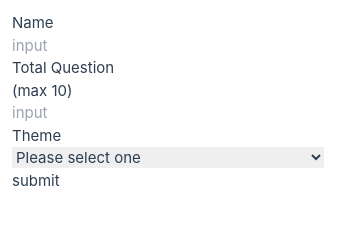
Test: child quiz form input › field theme empty
Type "ujank" into the field with id "name" at [132, 46], box [12,34,252,57]
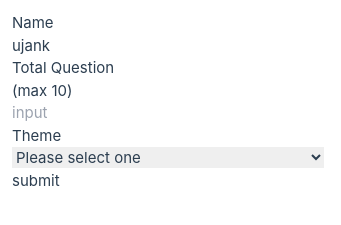
Select "Please select one" in the dropdown with id "theme" at [168, 158], box [12,147,324,168]
Type "5" into the number field with id "totalQuestion" at [132, 113], box [12,102,252,124]
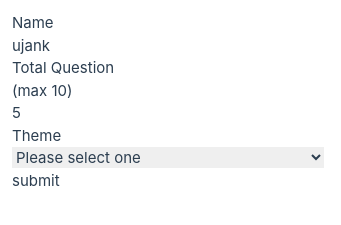
Click the button "submit" at [36, 181], box [12,170,60,192]
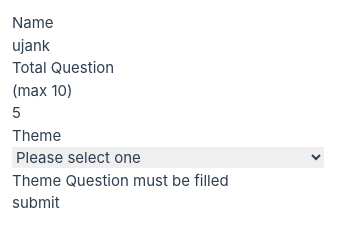
Expected: the element showing "Theme Question must be filled" is shown, [12,170,229,190]
